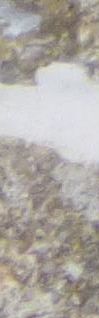Spalling: (1, 133, 99, 318), (1, 1, 99, 88)
